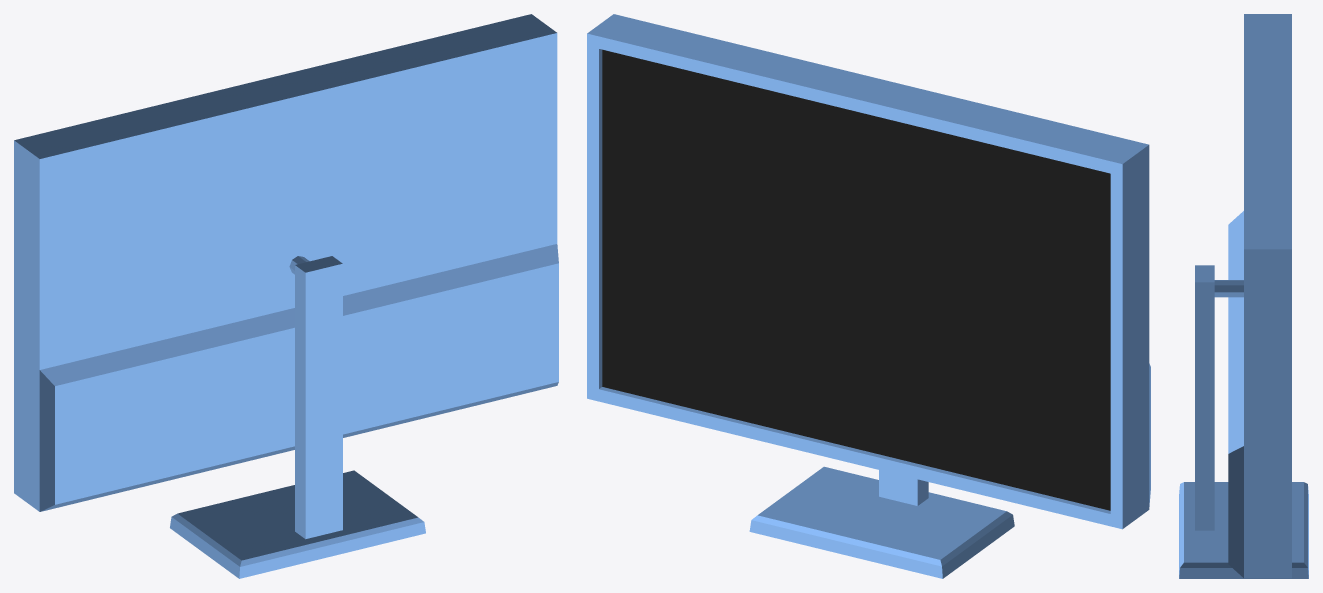
Rendered from Monitor 1.fbx.
The picture shows the model from 3 angles, left to right: view 1: azimuth 30°, elevation 25°; view 2: azimuth 150°, elevation 25°; view 3: azimuth 270°, elevation 25°; orthographic projection. The views are drawn at different scales.
Parts seen in each view (by area): view 1: Node 0; view 2: Node 0; view 3: Node 0.
Boxes of the visible parts, x1,y1,x2,y2 form: Node 0: [14, 14, 558, 578]; Node 0: [587, 14, 1150, 578]; Node 0: [1179, 14, 1308, 578].
Size of the model in its own units: 0.1859 by 0.6407 by 0.7986.
